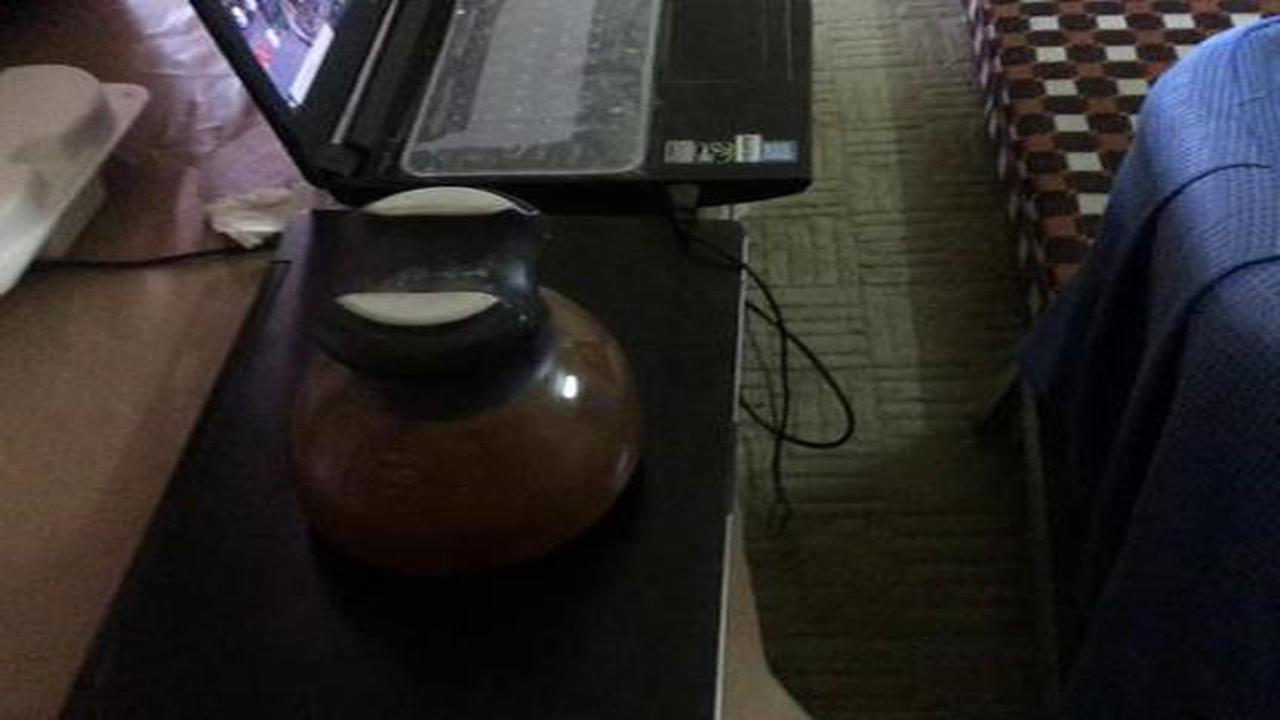insulator_pin: (265, 171, 677, 608)
